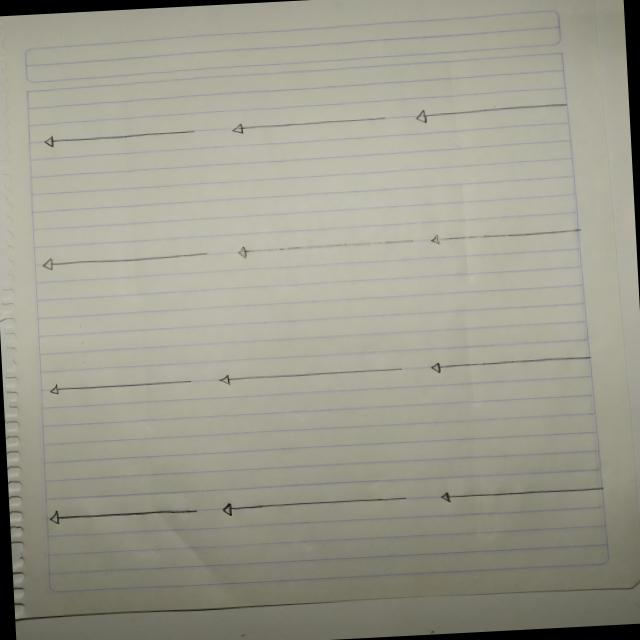arrow_line_left: (208, 360, 414, 397), (228, 230, 422, 269), (29, 118, 208, 159), (214, 488, 420, 522), (28, 243, 216, 280), (224, 110, 396, 150), (428, 479, 612, 513), (39, 497, 208, 534), (426, 222, 594, 258), (410, 96, 579, 130), (422, 349, 598, 381), (41, 372, 204, 406)
